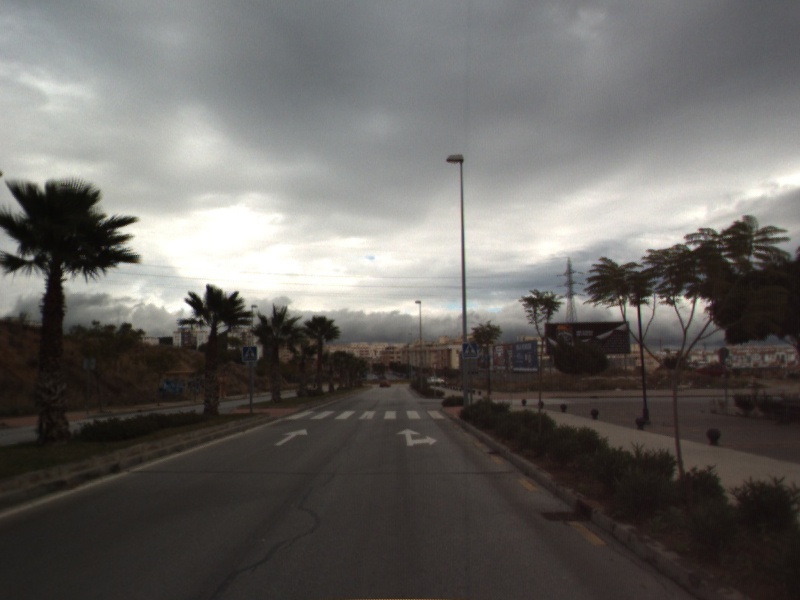STRAIGHT: (272, 427, 310, 448)
STRAIGHT_RIGHT: (394, 426, 439, 448)
